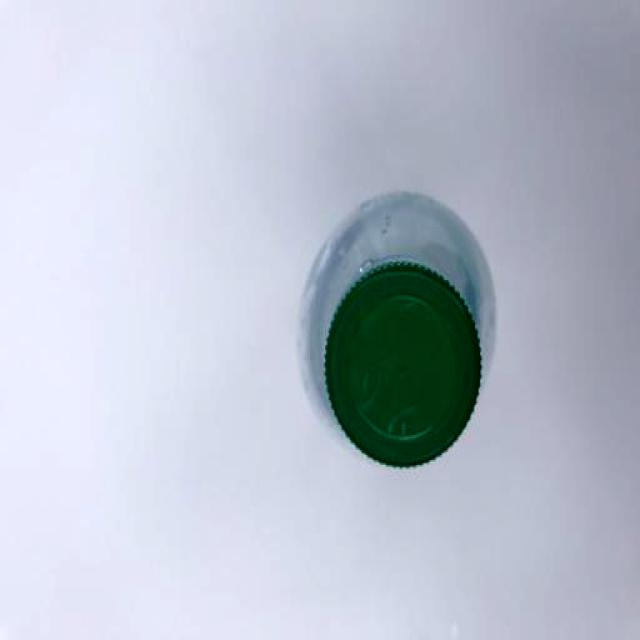Plastic: (310, 254, 515, 474)
